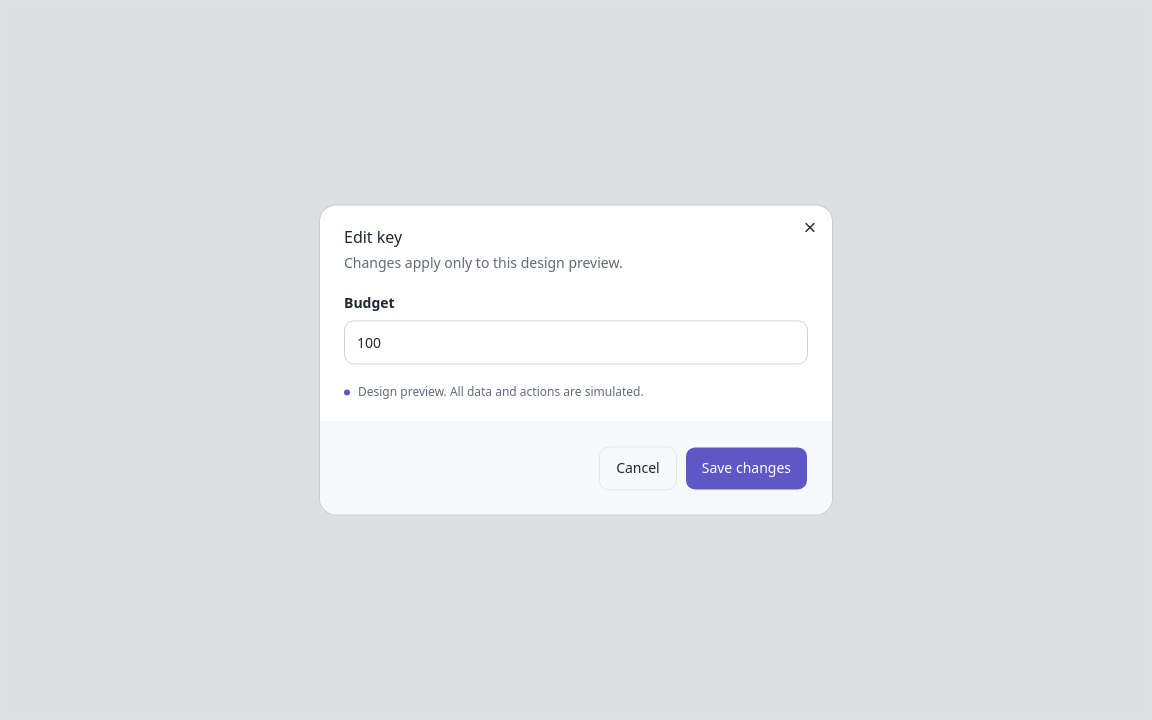
Test: Demo form behavior › rejects a negative demo budget without saving
Replace the text in the number field labelled "Budget" with "-5" at (576, 342), box x1=344 y1=320 x2=808 y2=364
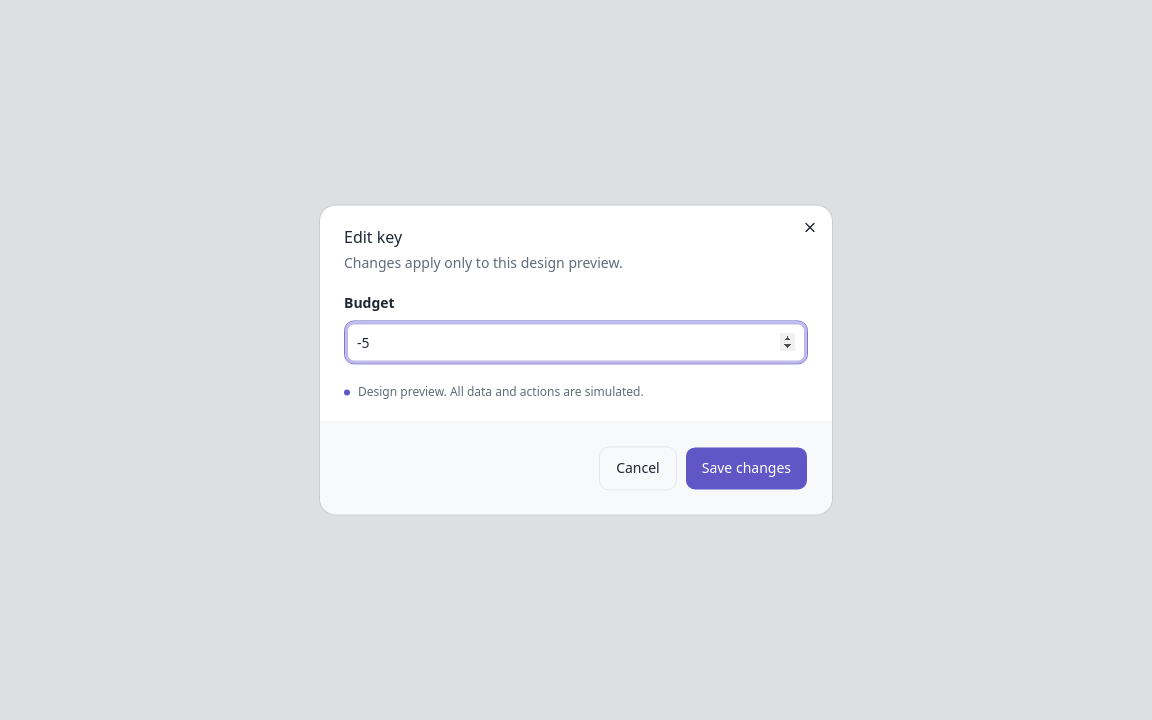
Click the button "Save changes" at (746, 469), box x1=685 y1=447 x2=808 y2=491
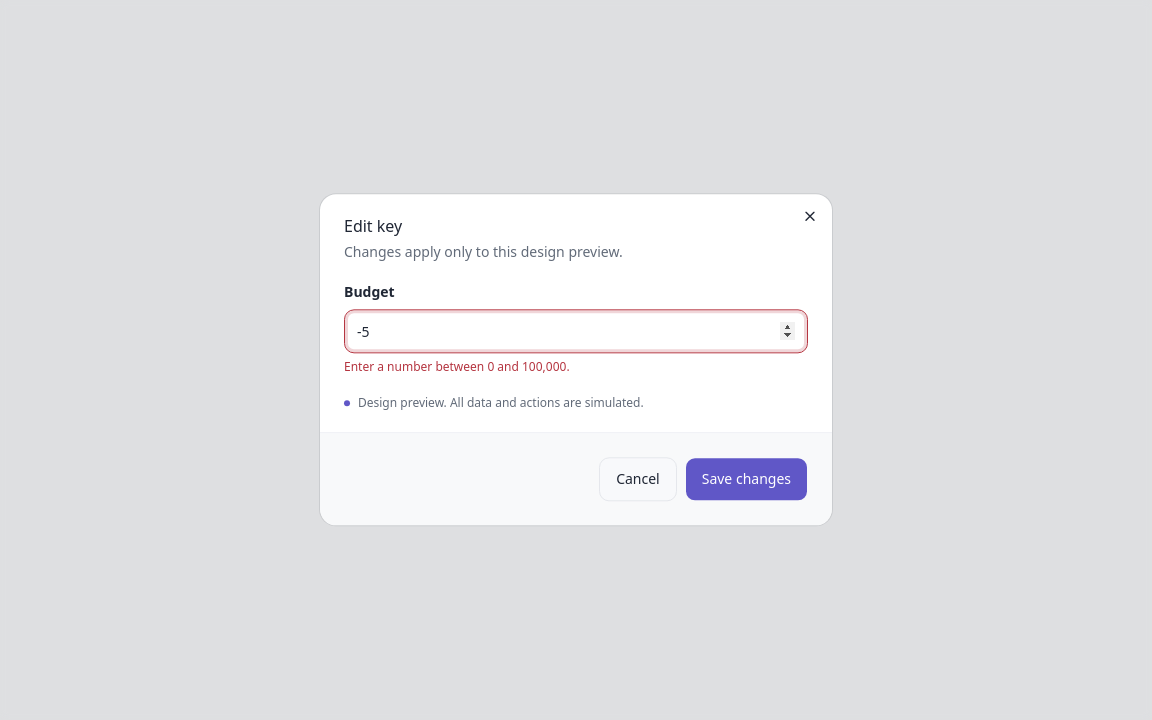
Now the message reads "Enter a number between 0 and 100,000.", box x1=344 y1=358 x2=570 y2=375
